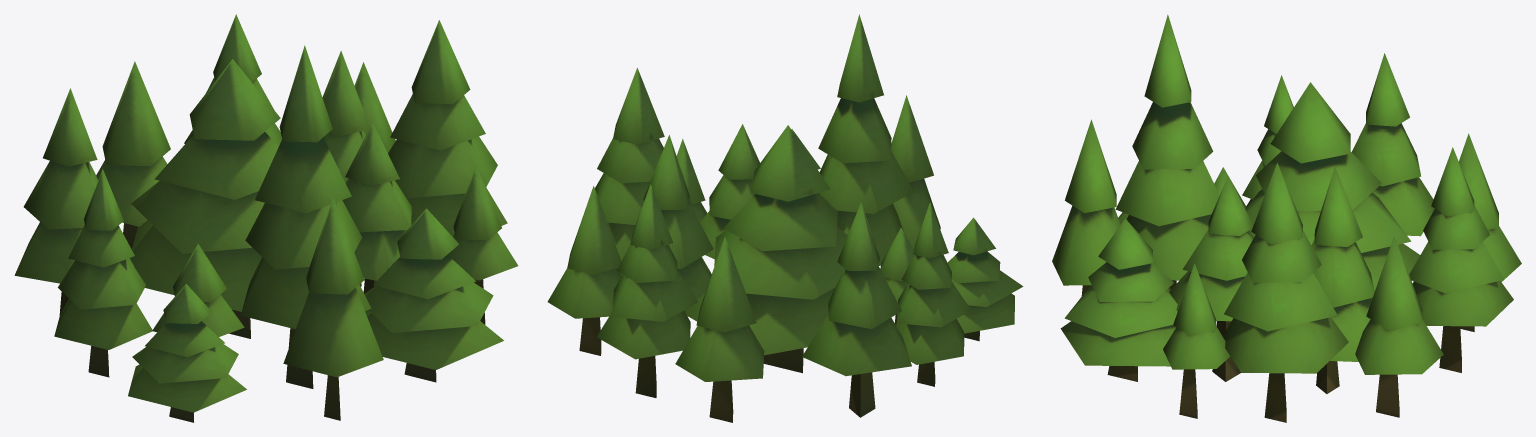
The model's file is Sce_worldmap_wood_02.FBX.
3 views of the same model, side by side, from view 1: azimuth 30°, elevation 25°; view 2: azimuth 150°, elevation 25°; view 3: azimuth 270°, elevation 25° (orthographic). The views are drawn at different scales.
Parts seen in each view (by area): view 1: Sce_worldmap_wood_02; view 2: Sce_worldmap_wood_02; view 3: Sce_worldmap_wood_02.
Boxes of the visible parts, box(x1,y1,x2,y2) form: Sce_worldmap_wood_02: box(14, 14, 518, 422); Sce_worldmap_wood_02: box(547, 14, 1023, 422); Sce_worldmap_wood_02: box(1052, 14, 1521, 422).
Bounding box in the file's own units: 60.74 × 45.52 × 61.4.
